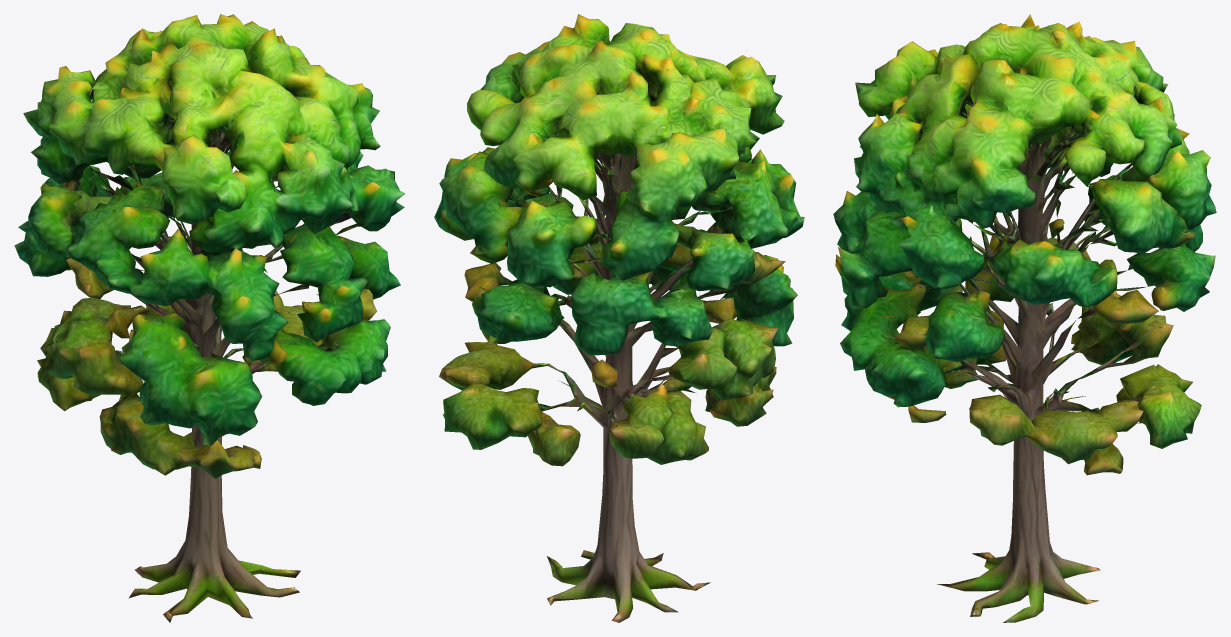
The model's file is forest_tree_mobile.glb.
3 renders of one model, left to right at view 1: azimuth 30°, elevation 25°; view 2: azimuth 150°, elevation 25°; view 3: azimuth 270°, elevation 25°, orthographic.
Size of the model in its own units: 1.13 by 1.91 by 1.19.
Materials: 1 (1 with a texture image).
